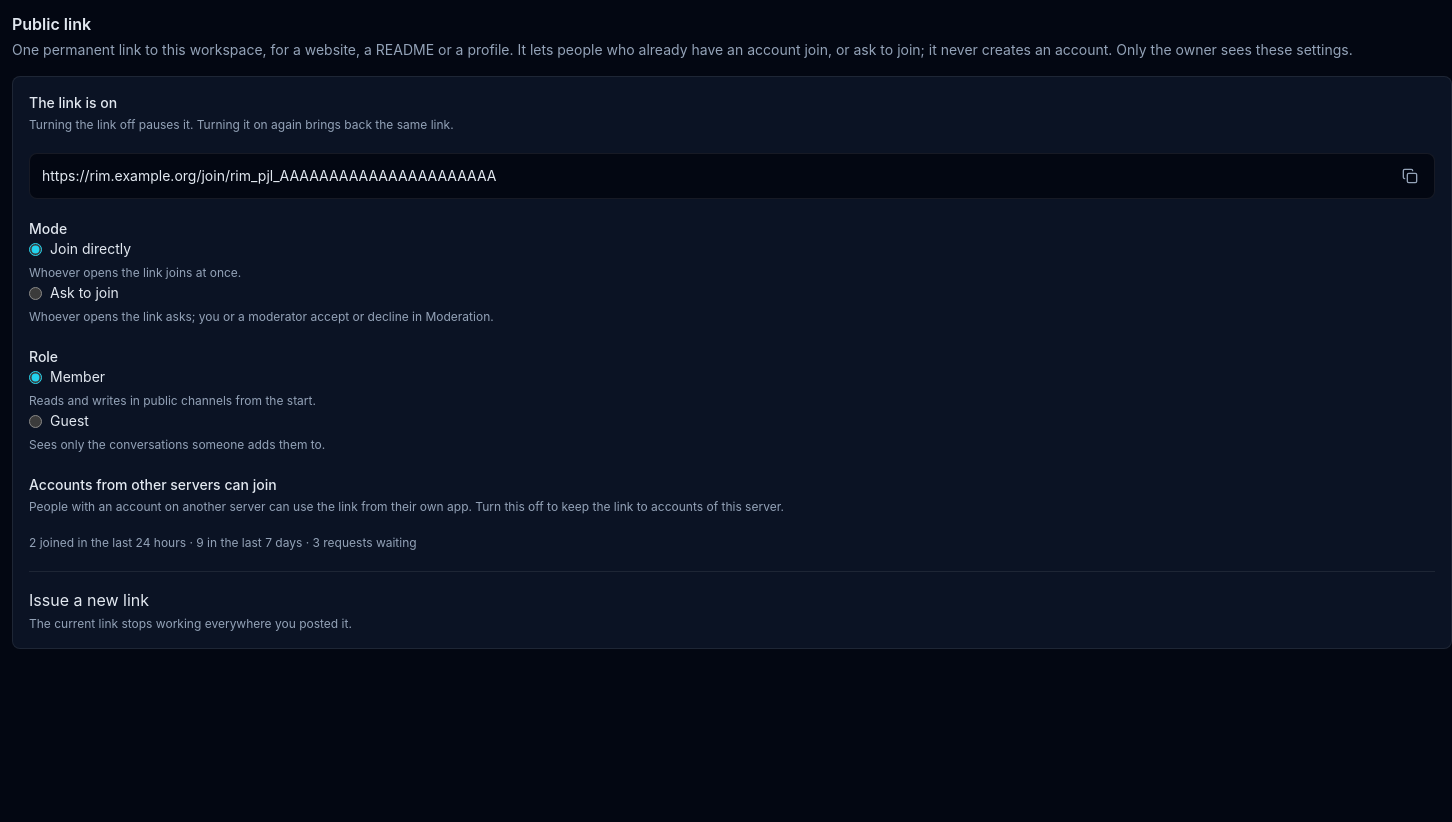
Test: PublicLinkSettings › changes the mode and the role
What coordinates should you click on to do the following:
click the radio button labelled "Ask to join"
I would click on:
 (36, 293)
Its box is [29, 286, 42, 300].
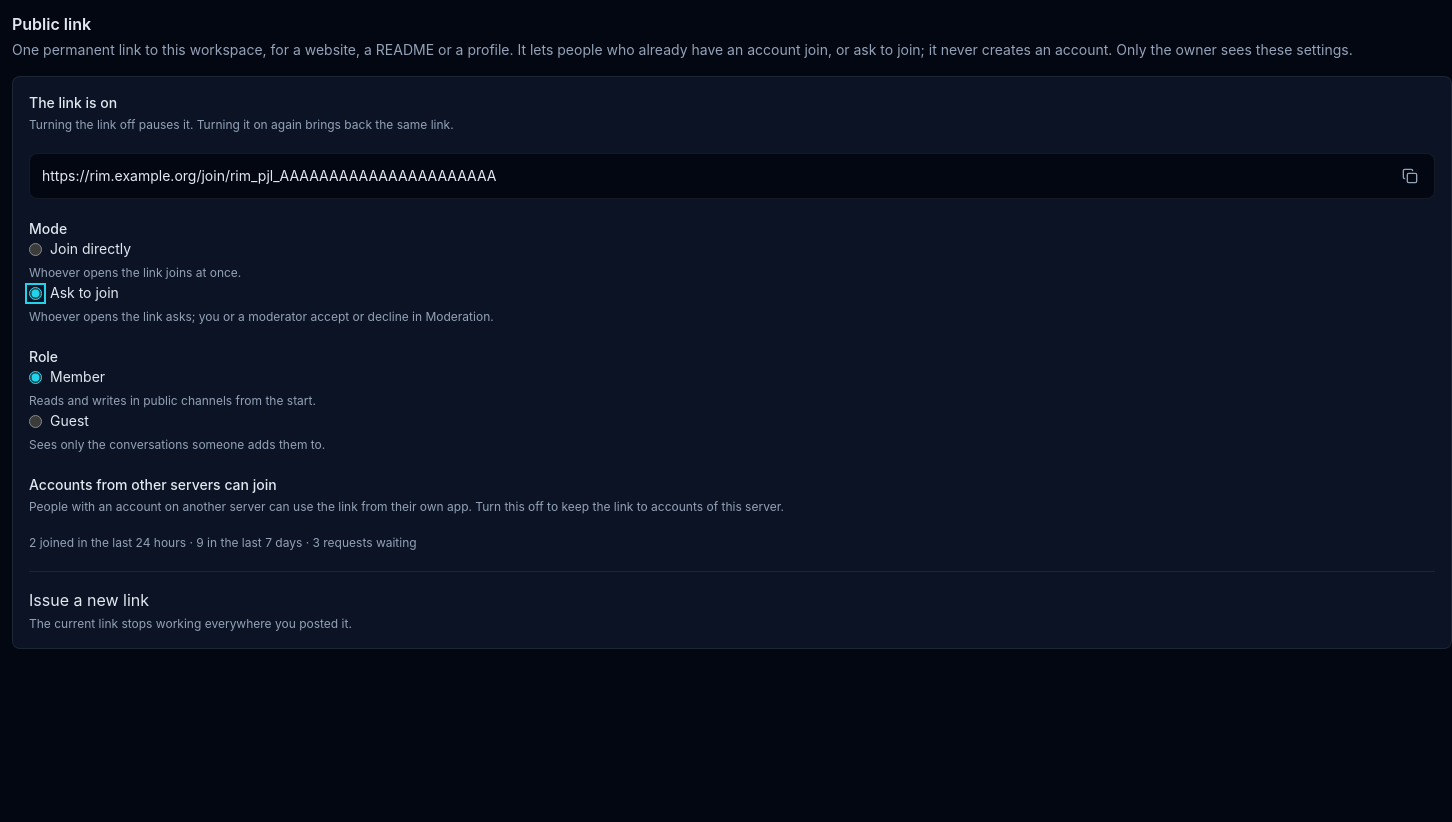
Expected: the radio button labelled "Ask to join" is checked, [29, 286, 42, 300]
What coordinates should you click on to do the following:
click the radio button labelled "Guest Sees only the conversations someone adds them to."
I would click on:
 (36, 421)
Its box is [29, 414, 42, 428].
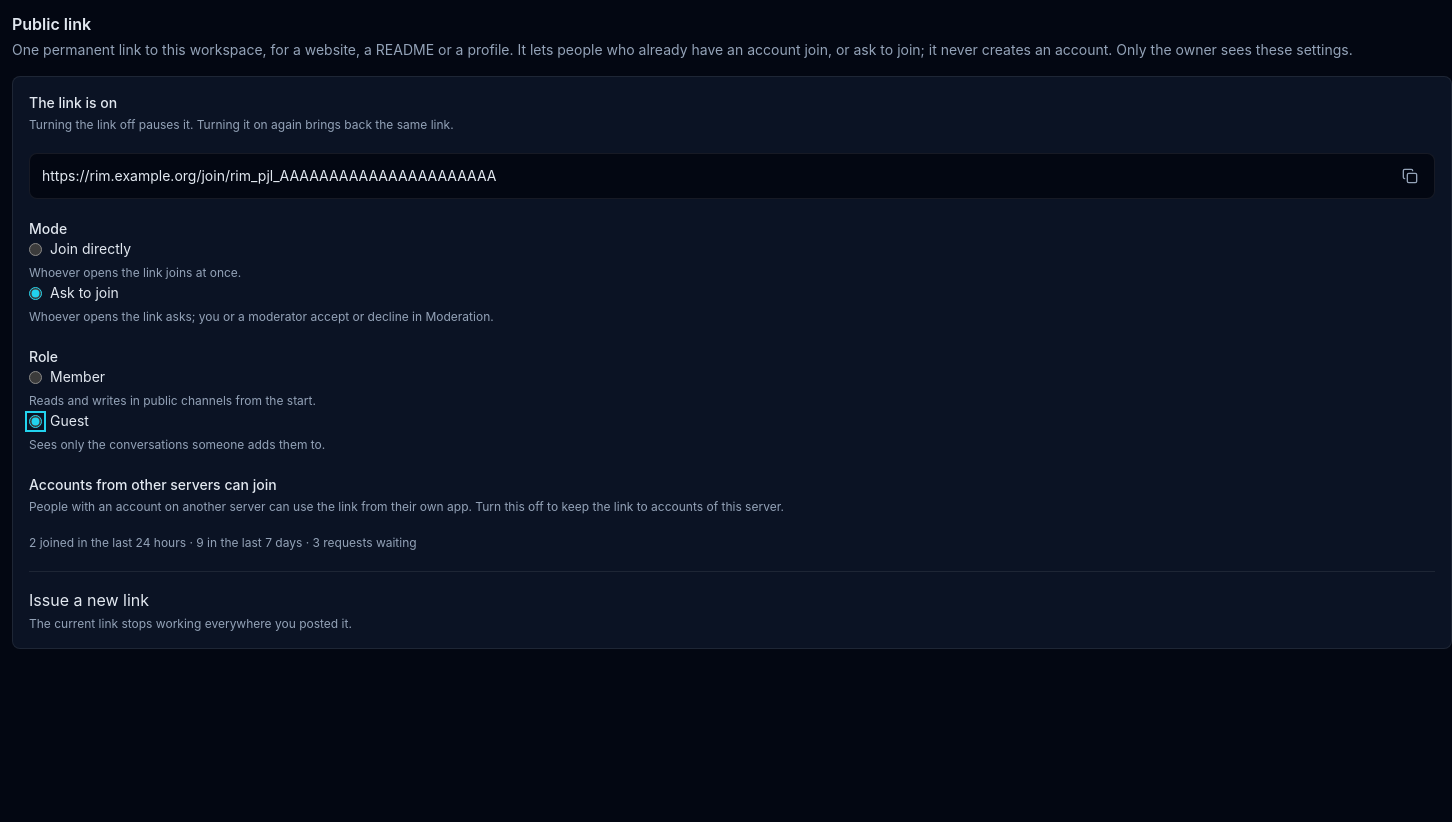
Expected: the radio button labelled "Guest Sees only the conversations someone adds them to." is checked, [29, 414, 42, 428]
Expected: the radio button labelled "Join directly Whoever opens the link joins at once." is not checked, [29, 242, 42, 256]
Expected: the radio button labelled "Member Reads and writes in public channels from the start." is not checked, [29, 370, 42, 384]
